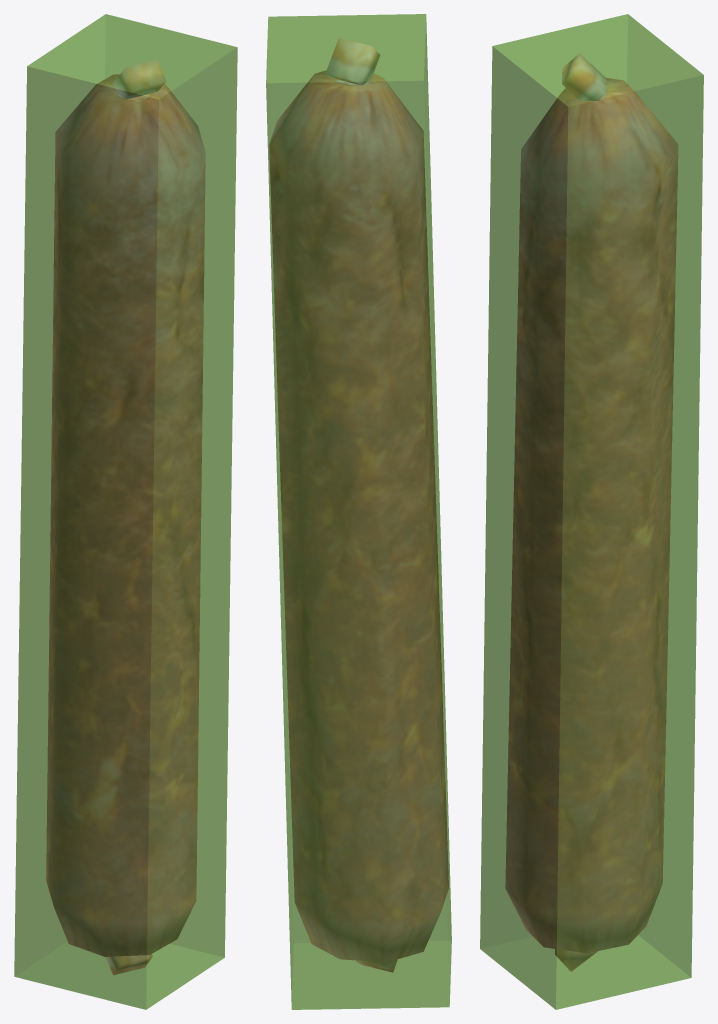
The model's file is pg_Chorizo_01_c.fbx.
The picture shows the model from 3 angles, left to right: view 1: azimuth 30°, elevation 25°; view 2: azimuth 150°, elevation 25°; view 3: azimuth 270°, elevation 25°; orthographic projection. The views are drawn at different scales.
Parts seen in each view (by area): view 1: pg_Chorizo_01_c_col, pg_Chorizo_01_c_LOD0; view 2: pg_Chorizo_01_c_col, pg_Chorizo_01_c_LOD0; view 3: pg_Chorizo_01_c_col, pg_Chorizo_01_c_LOD0.
Boxes of the visible parts, bbox=[...] form: pg_Chorizo_01_c_col: bbox=[14, 14, 237, 1009]; pg_Chorizo_01_c_LOD0: bbox=[46, 60, 205, 974]; pg_Chorizo_01_c_col: bbox=[266, 14, 451, 1009]; pg_Chorizo_01_c_LOD0: bbox=[269, 38, 448, 972]; pg_Chorizo_01_c_col: bbox=[480, 14, 703, 1009]; pg_Chorizo_01_c_LOD0: bbox=[505, 53, 678, 971].
Size of what is drawn, in the model's own units: 7.31 by 31.6 by 7.
